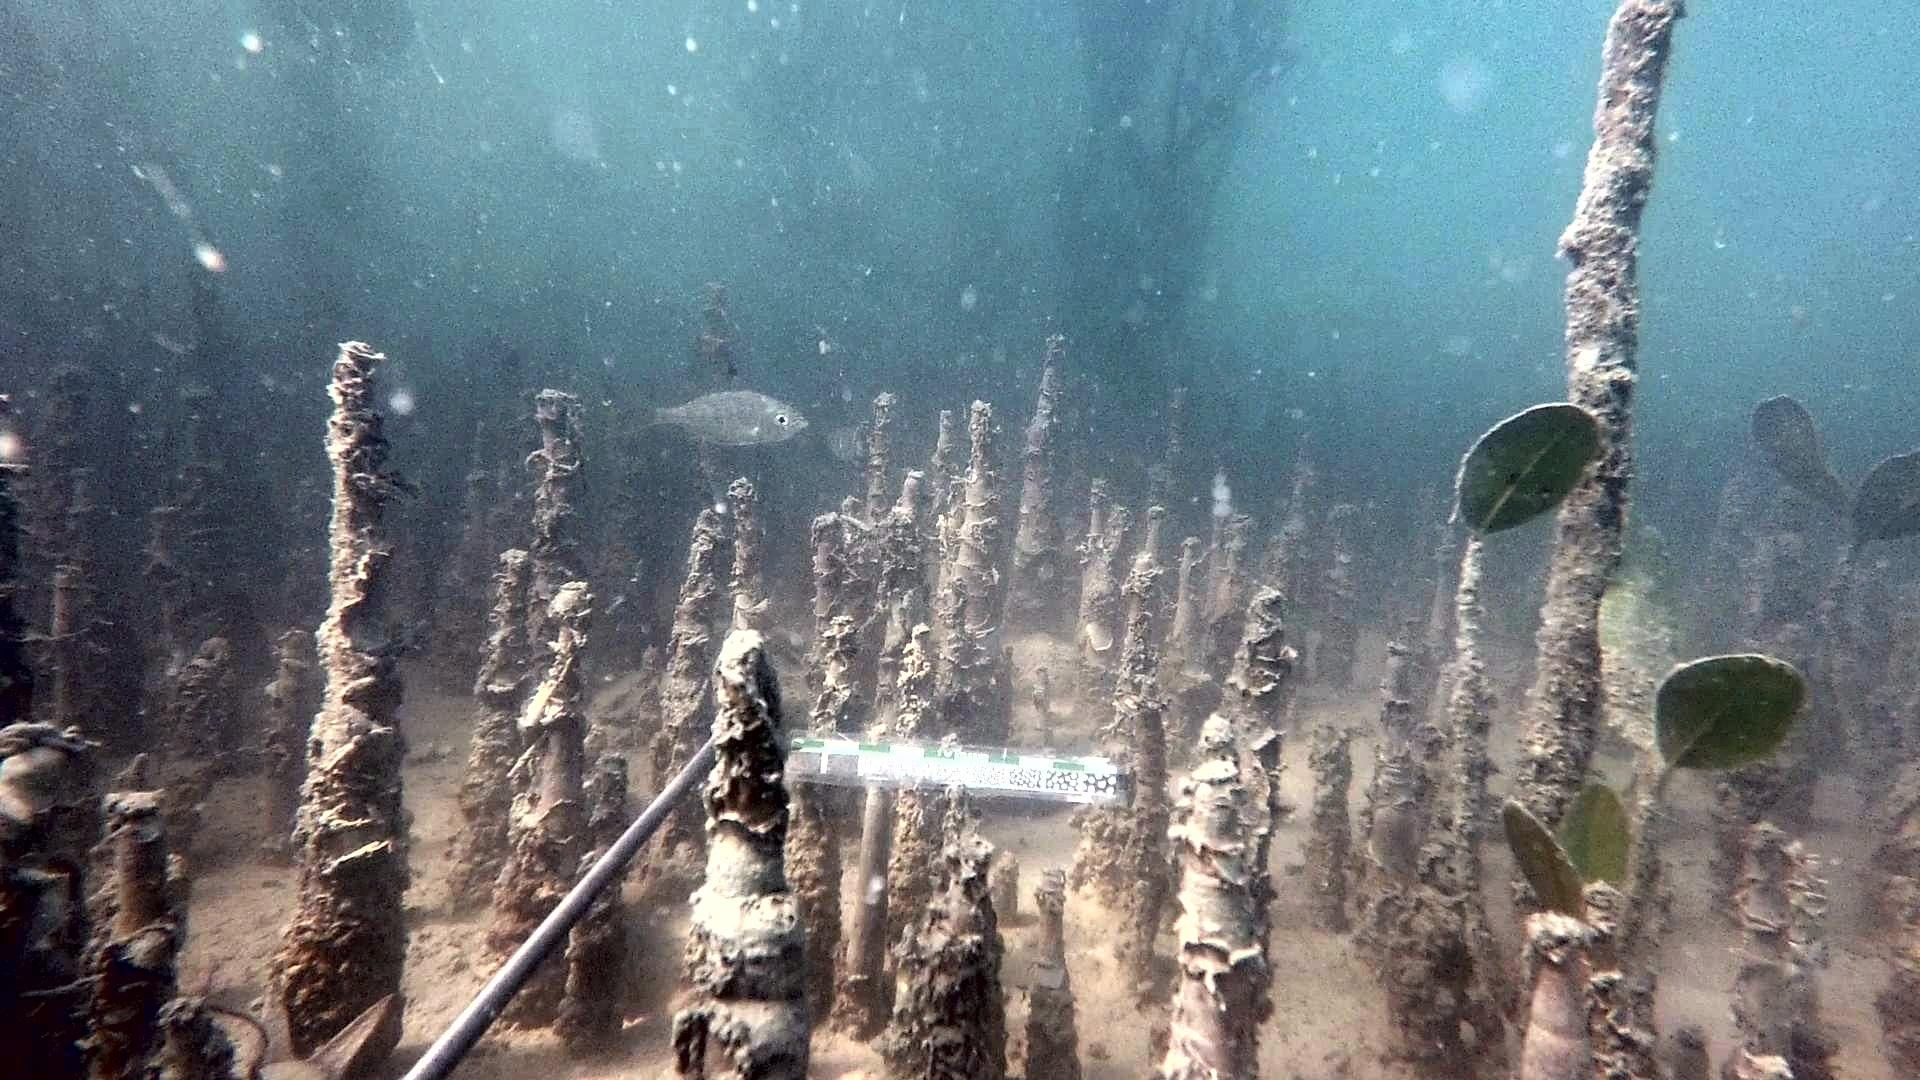gerres: (617, 360, 810, 448)
